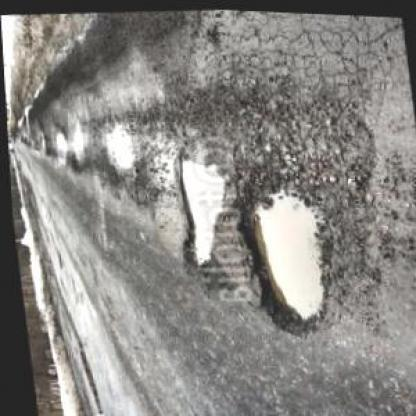pothole: (225, 166, 337, 336), (164, 146, 234, 272), (97, 118, 137, 169), (65, 122, 85, 162), (50, 129, 66, 161)
